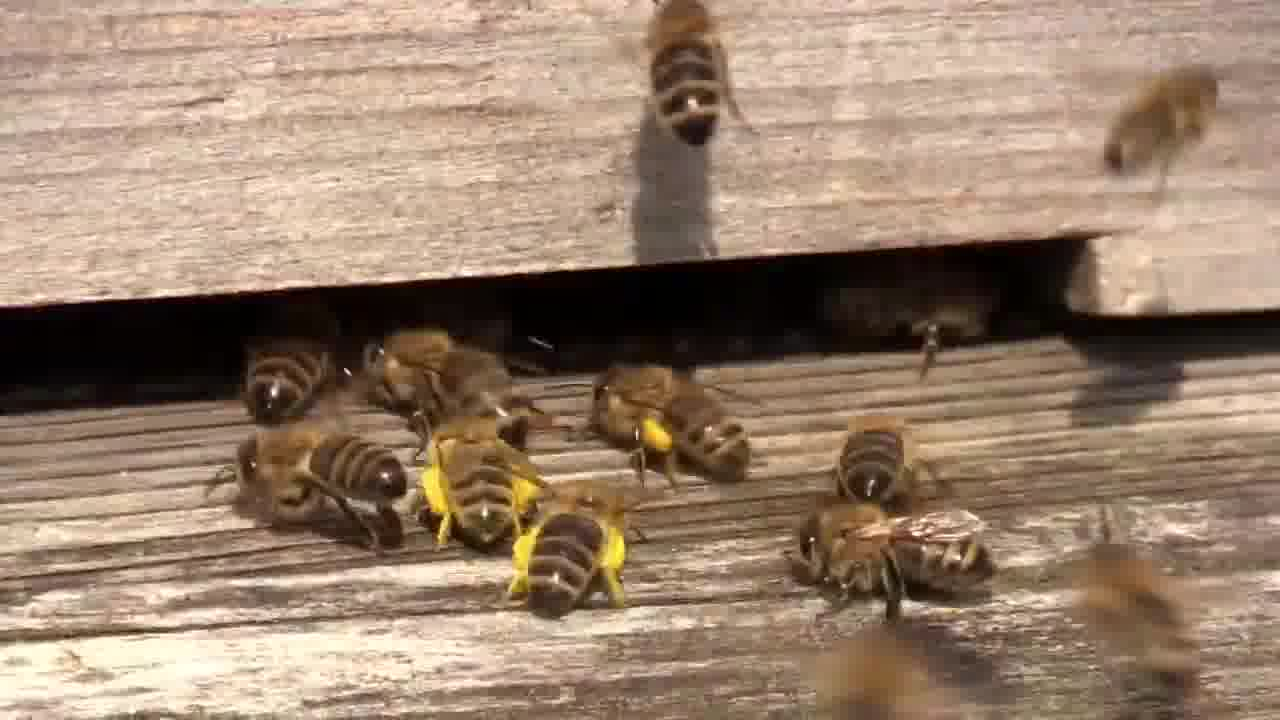pollen: (572, 356, 763, 483), (412, 416, 539, 536), (514, 499, 625, 608)
